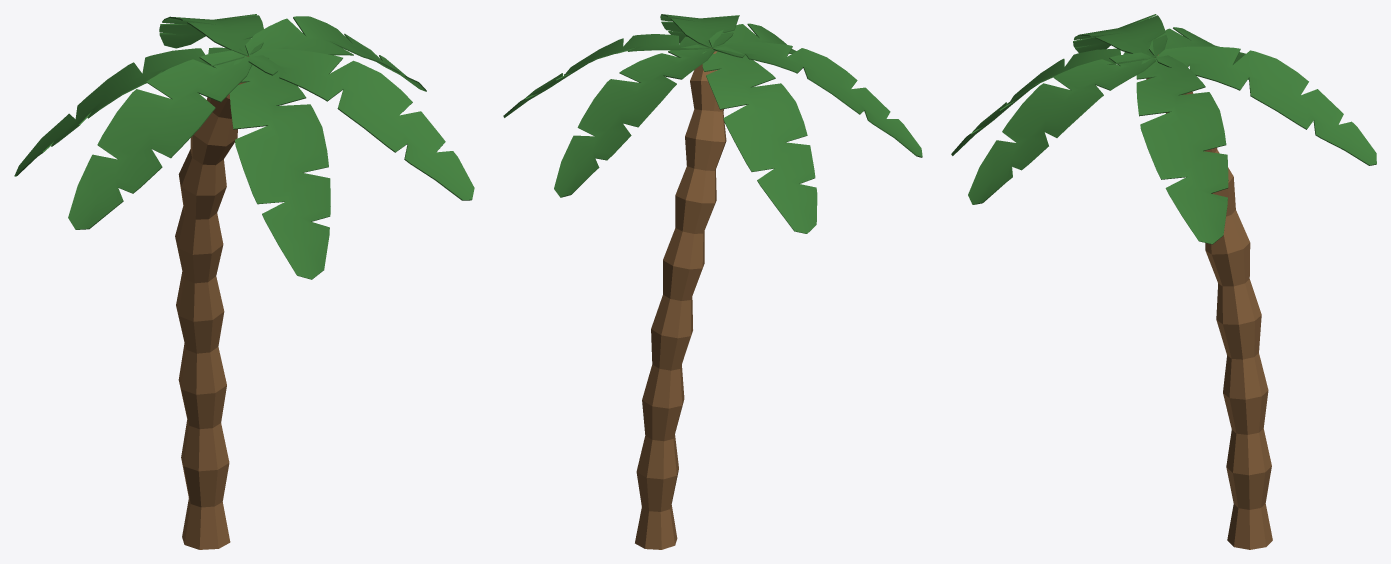
Rendered from palm_tree.fbx.
The picture shows the model from 3 angles, left to right: view 1: azimuth 30°, elevation 25°; view 2: azimuth 150°, elevation 25°; view 3: azimuth 270°, elevation 25°; orthographic projection. The views are drawn at different scales.
Parts seen in each view (by area): view 1: Cylinder.008, Plane.002, Plane.003, Plane.001, Plane.004, Plane, Plane.005; view 2: Cylinder.008, Plane.004, Plane.005, Plane.003, Plane, Plane.001, Plane.002; view 3: Cylinder.008, Plane, Plane.001, Plane.005, Plane.003, Plane.002, Plane.004.
Boxes of the visible parts, x1=… form: Cylinder.008: x1=175, y1=56, x2=248, y2=549; Plane.002: x1=229, y1=55, x2=330, y2=279; Plane.003: x1=68, y1=50, x2=252, y2=229; Plane.001: x1=248, y1=48, x2=474, y2=200; Plane.004: x1=14, y1=47, x2=245, y2=176; Plane: x1=245, y1=16, x2=426, y2=91; Plane.005: x1=159, y1=14, x2=263, y2=56; Cylinder.008: x1=635, y1=48, x2=726, y2=549; Plane.004: x1=702, y1=46, x2=817, y2=233; Plane.005: x1=554, y1=44, x2=714, y2=197; Plane.003: x1=712, y1=41, x2=922, y2=157; Plane: x1=503, y1=34, x2=709, y2=117; Plane.001: x1=660, y1=14, x2=739, y2=48; Plane.002: x1=708, y1=23, x2=796, y2=53; Cylinder.008: x1=1146, y1=54, x2=1272, y2=549; Plane: x1=1136, y1=55, x2=1228, y2=244; Plane.001: x1=968, y1=52, x2=1155, y2=204; Plane.005: x1=1156, y1=46, x2=1376, y2=165; Plane.003: x1=1073, y1=14, x2=1167, y2=57; Plane.002: x1=951, y1=48, x2=1153, y2=155; Plane.004: x1=1149, y1=27, x2=1248, y2=79.
Size of the model in its own units: 757 by 932 by 745.
